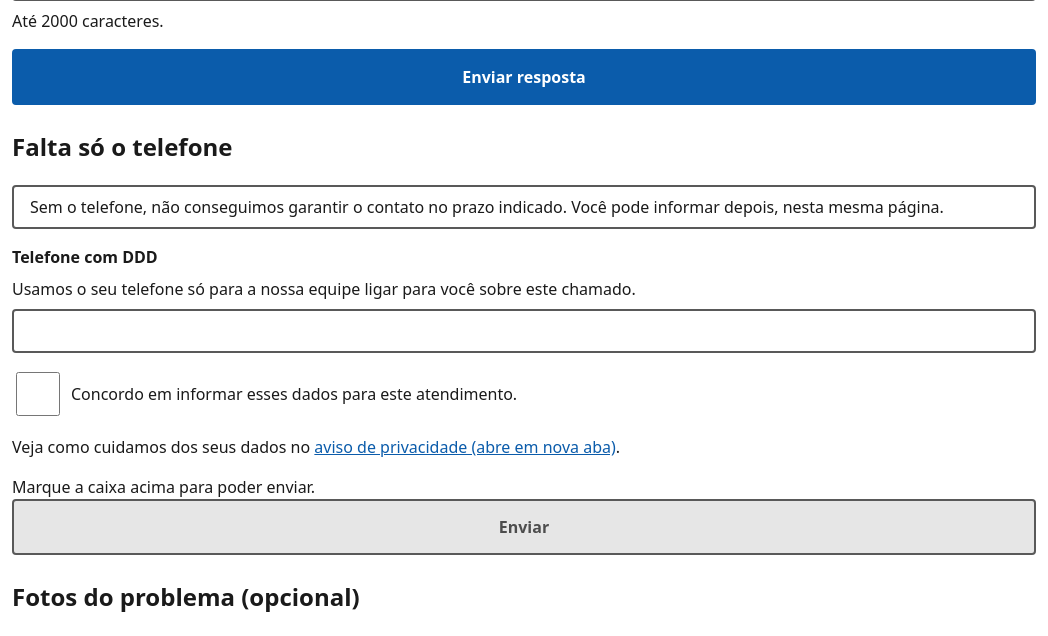
Test case: formulário de contato › avisa de falha de rede e mantém o digitado
This screenshot has width=1048, height=636.
(page scrolled)
Type "11912345678" into the field labelled "Telefone com DDD" at (524, 330), box [12,308,1036,352]
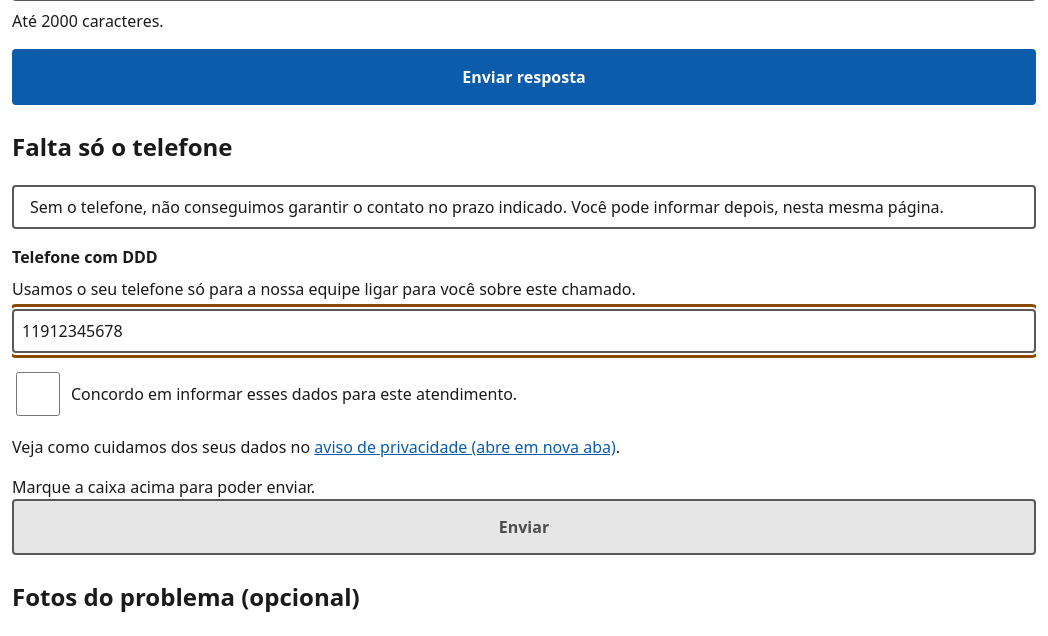
Click the checkbox at (38, 394), box [16,372,60,416]
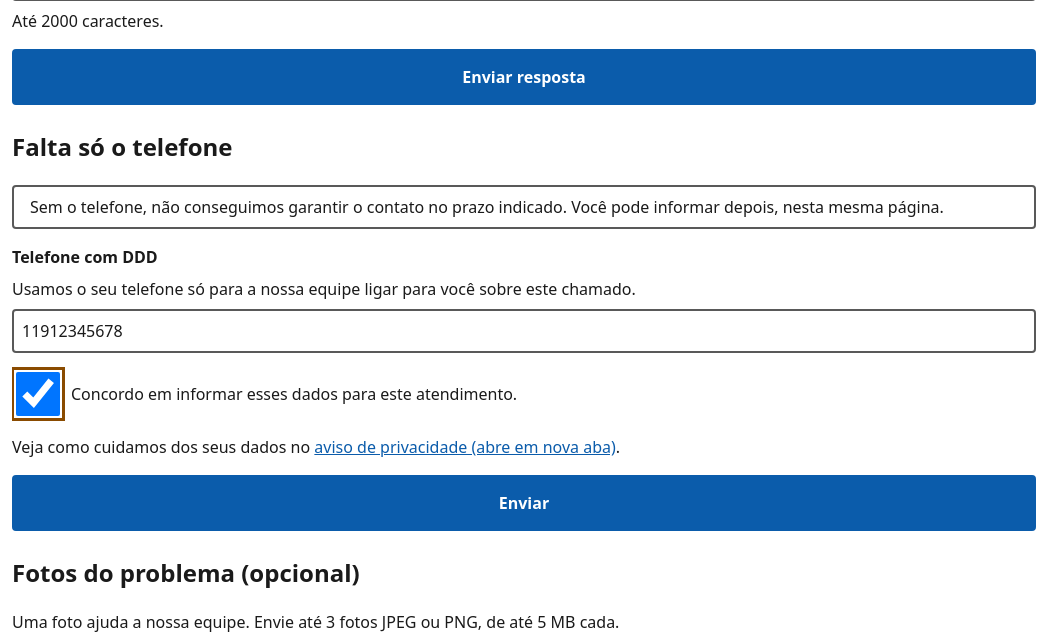
Click the button "Enviar" at (524, 502), box [12,474,1036,530]
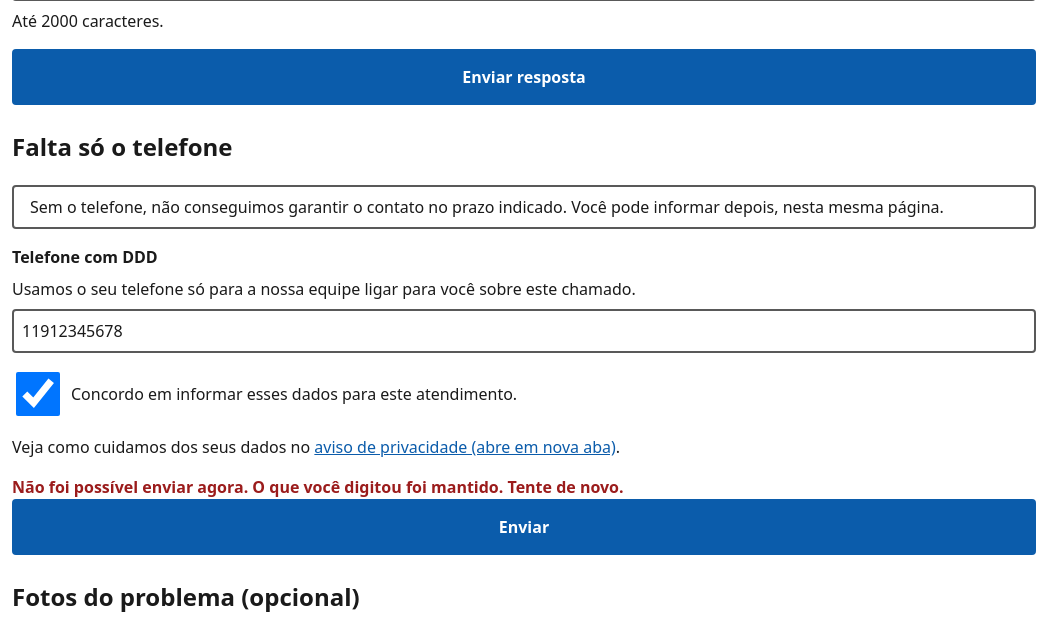
Check: the checkbox is checked, box [16,372,60,416]
Check: the text "Não foi possível enviar agora. O que você digitou foi mantido. Tente de novo." is shown, box [12,476,624,498]
